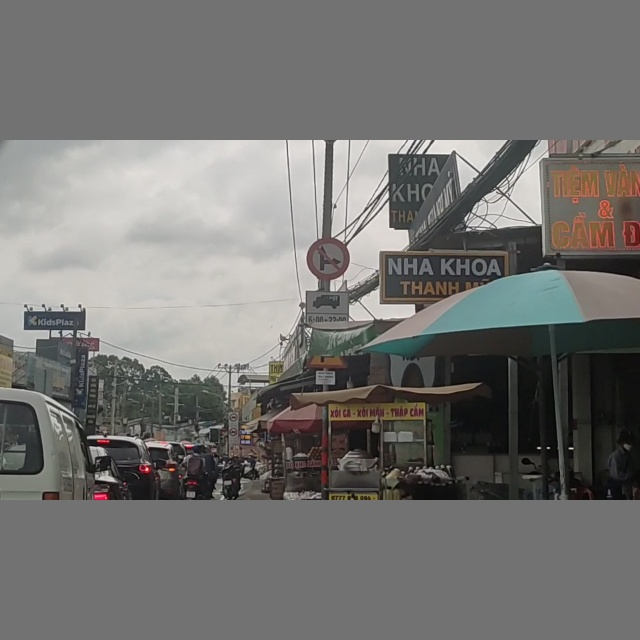P.139: (307, 239, 349, 279)
S.505a*Xe tai: (306, 292, 347, 327)
